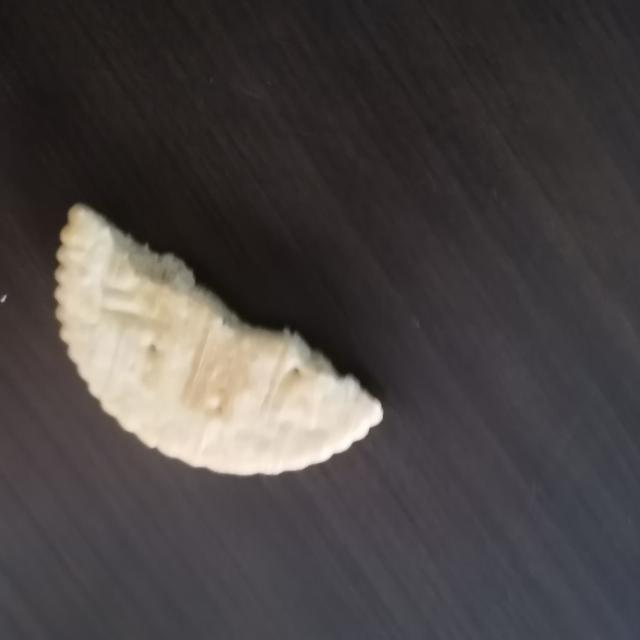Broken: (52, 201, 384, 477)
